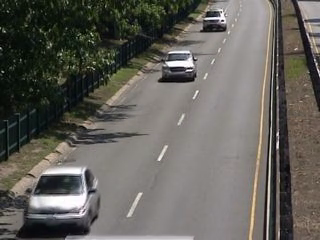car: (20, 164, 105, 235), (157, 48, 200, 81), (201, 8, 230, 31)
